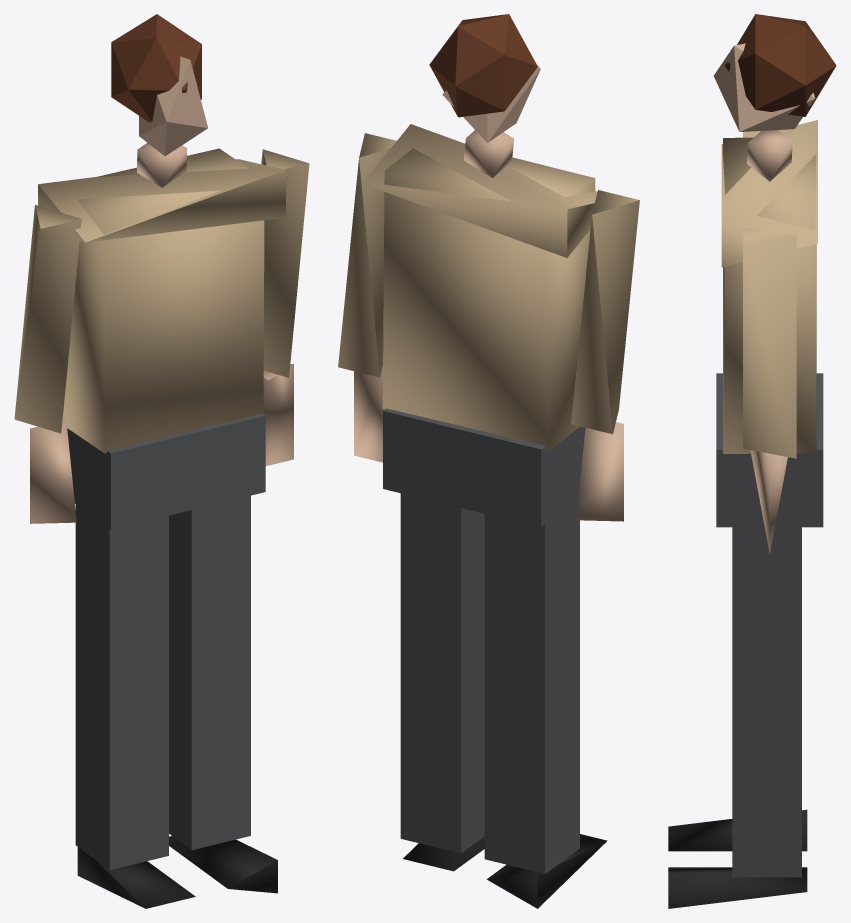
Rendered from person_standing_b_LOD1.glb.
The picture shows the model from 3 angles, left to right: view 1: azimuth 30°, elevation 25°; view 2: azimuth 150°, elevation 25°; view 3: azimuth 270°, elevation 25°; orthographic projection. The views are drawn at different scales.
Visible parts, largest first — view 1: Body_LOD1; view 2: Body_LOD1; view 3: Body_LOD1.
Part boxes in pixels (x1=…): Body_LOD1: x1=14, y1=14, x2=309, y2=908; Body_LOD1: x1=338, y1=14, x2=639, y2=908; Body_LOD1: x1=668, y1=14, x2=836, y2=908.
Bounding box in the file's own units: 0.59 × 1.77 × 0.315.
